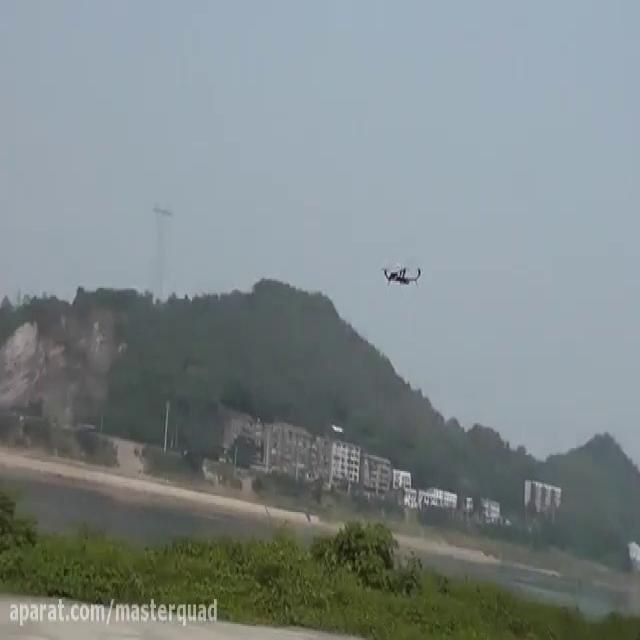drone: (378, 260, 424, 292)
